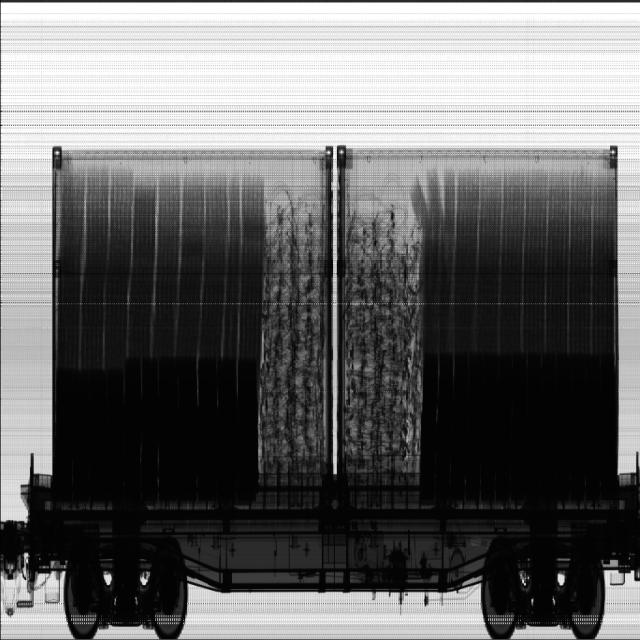bicycle: (342, 182, 419, 478), (260, 183, 327, 487)
